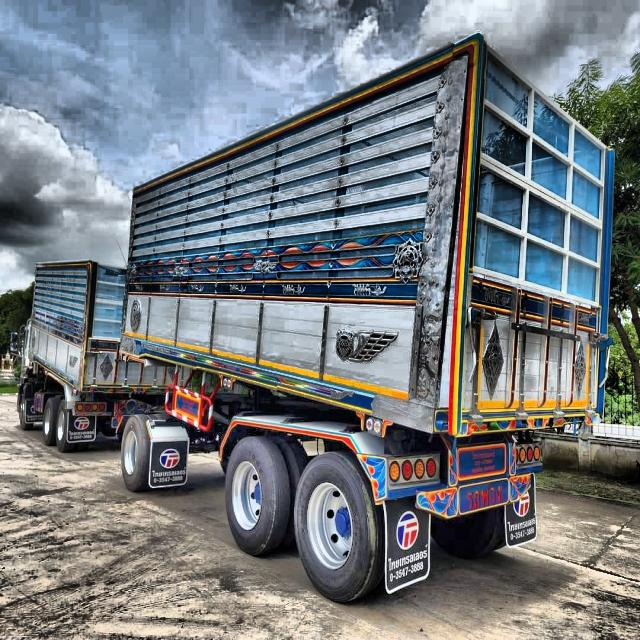trailer: (12, 24, 613, 613)
